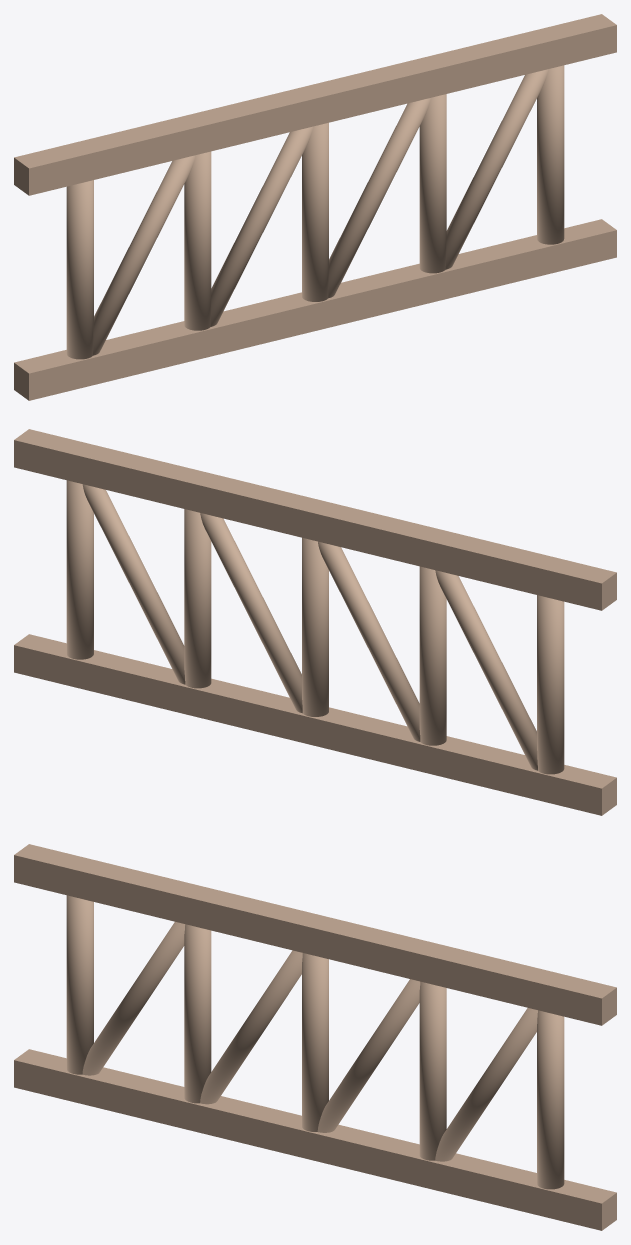
Rendered from truss_segment.glb.
The picture shows the model from 3 angles, top to bottom: view 1: azimuth 30°, elevation 25°; view 2: azimuth 150°, elevation 25°; view 3: azimuth 330°, elevation 25°; orthographic projection.
Parts seen in each view (by area): view 1: Cube; view 2: Cube; view 3: Cube.
Part boxes in pixels (left/top/right/bottom): Cube: left=14, top=14, right=616, bottom=400; Cube: left=14, top=429, right=616, bottom=815; Cube: left=14, top=844, right=616, bottom=1230.
Size of the model in its own units: 0.6 by 0.2267 by 0.0267.
